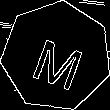M_N: (26, 25, 87, 88)
